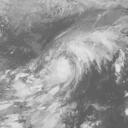cyclone: (14, 25, 112, 108)
